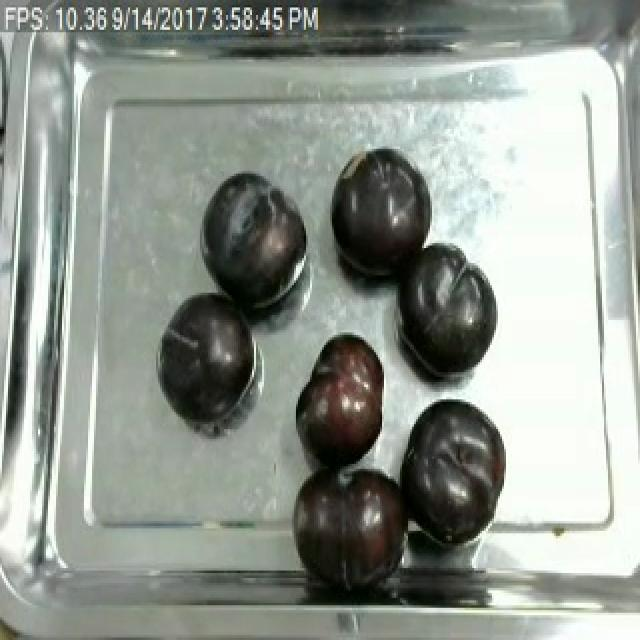Fruit: (398, 392, 514, 551), (194, 168, 310, 318), (286, 456, 410, 596), (394, 236, 500, 382), (154, 283, 260, 427), (290, 327, 390, 474), (328, 144, 434, 280)
